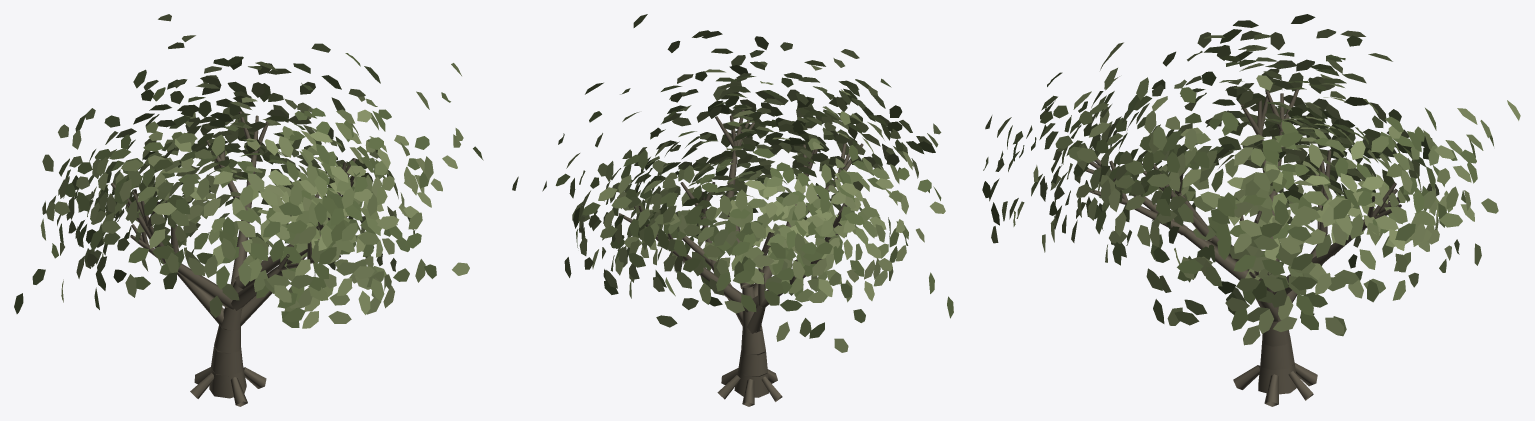
File: olive_2.glb
3 views of the same model, side by side, from view 1: azimuth 30°, elevation 25°; view 2: azimuth 150°, elevation 25°; view 3: azimuth 270°, elevation 25° (orthographic). The views are drawn at different scales.
Parts seen in each view (by area): view 1: olive_2_LOD0; view 2: olive_2_LOD0; view 3: olive_2_LOD0.
Boxes of the visible parts, x1,y1,x2,y2 form: olive_2_LOD0: [14, 14, 483, 406]; olive_2_LOD0: [512, 14, 953, 406]; olive_2_LOD0: [982, 14, 1520, 406].
Size of what is drawn, in the model's own units: 1.78 by 1.32 by 1.8.
